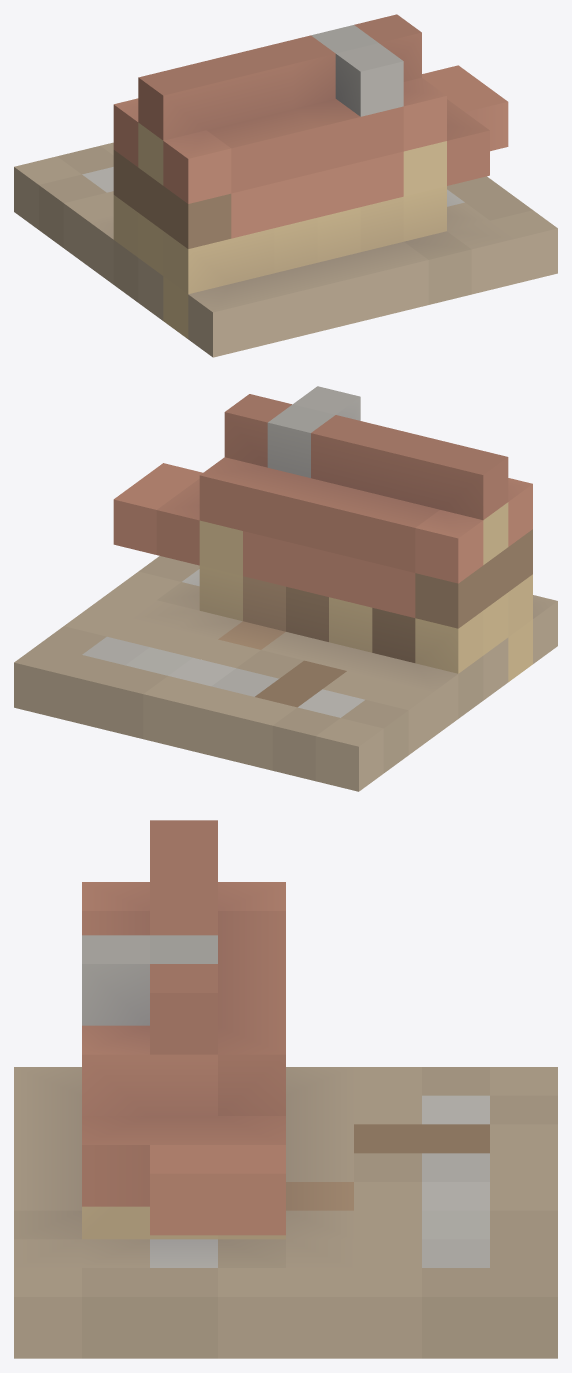
File: toolmaker.lite.glb
The picture shows the model from 3 angles, top to bottom: view 1: azimuth 30°, elevation 25°; view 2: azimuth 150°, elevation 25°; view 3: azimuth 270°, elevation 25°; orthographic projection. The views are drawn at different scales.
Parts seen in each view (by area): view 1: toolmaker; view 2: toolmaker; view 3: toolmaker.
Part boxes in pixels (x1=…): toolmaker: x1=14, y1=14, x2=557, y2=357; toolmaker: x1=14, y1=386, x2=557, y2=791; toolmaker: x1=14, y1=820, x2=557, y2=1358.
Bounding box in the file's own units: 4 × 2.5 × 4.
